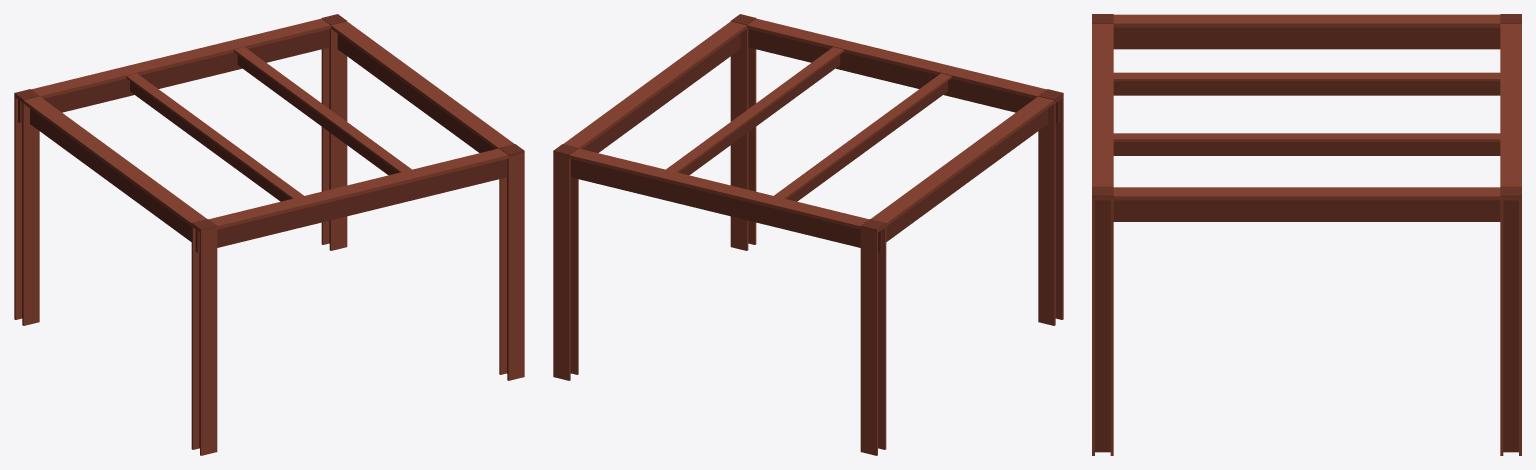
Rendered from con_frame_steel.glb.
3 renders of one model, left to right at view 1: azimuth 30°, elevation 25°; view 2: azimuth 150°, elevation 25°; view 3: azimuth 270°, elevation 25°, orthographic. The views are drawn at different scales.
Parts seen in each view (by area): view 1: con_frame_steel; view 2: con_frame_steel; view 3: con_frame_steel.
Boxes of the visible parts, x1,y1,x2,y2 form: con_frame_steel: (14, 14, 524, 455); con_frame_steel: (553, 14, 1063, 455); con_frame_steel: (1092, 14, 1521, 455).
Size of the model in its own units: 6 by 4.01 by 6.
